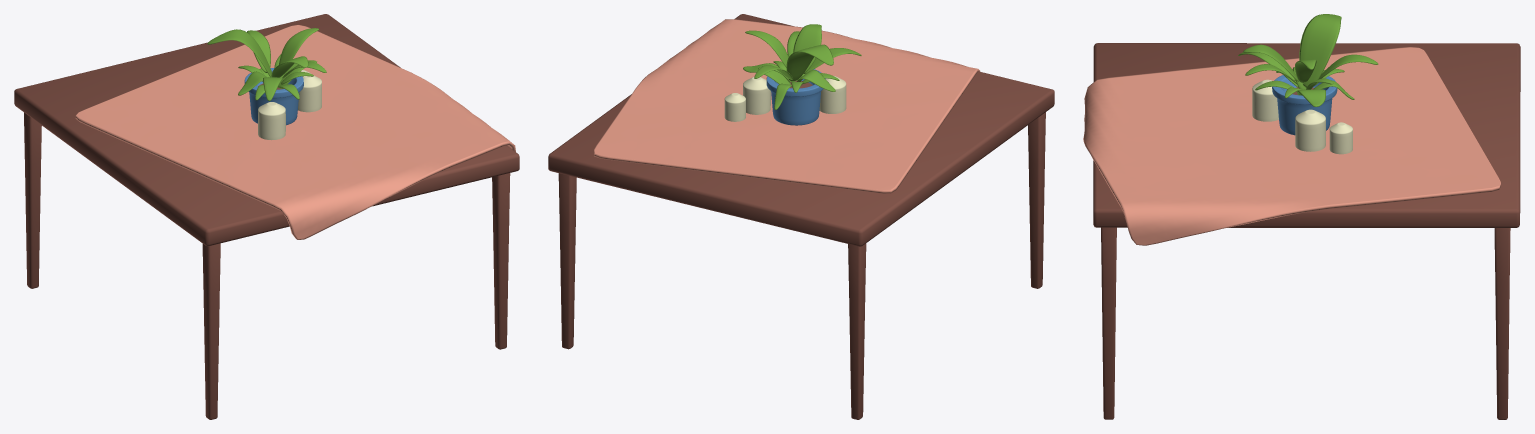
Rendered from Table.fbx.
3 views of the same model, side by side, from view 1: azimuth 30°, elevation 25°; view 2: azimuth 150°, elevation 25°; view 3: azimuth 270°, elevation 25° (orthographic). The views are drawn at different scales.
Parts seen in each view (by area): view 1: Table; view 2: Table; view 3: Table.
Part boxes in pixels (left/top/right/bottom): Table: left=14, top=14, right=519, bottom=419; Table: left=548, top=14, right=1054, bottom=419; Table: left=1083, top=14, right=1520, bottom=419.
Size of the model in its own units: 109 by 89.75 by 115.
